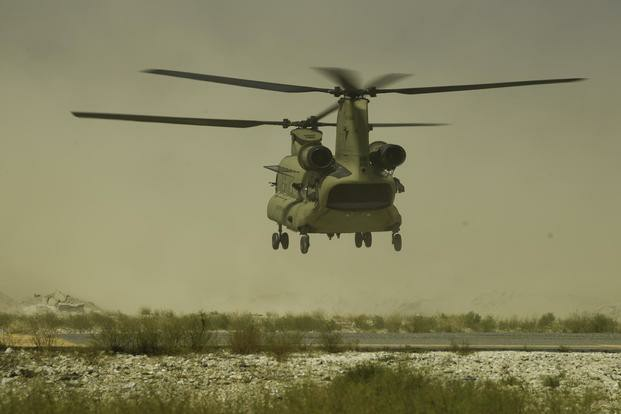chinook: (197, 62, 459, 255)
